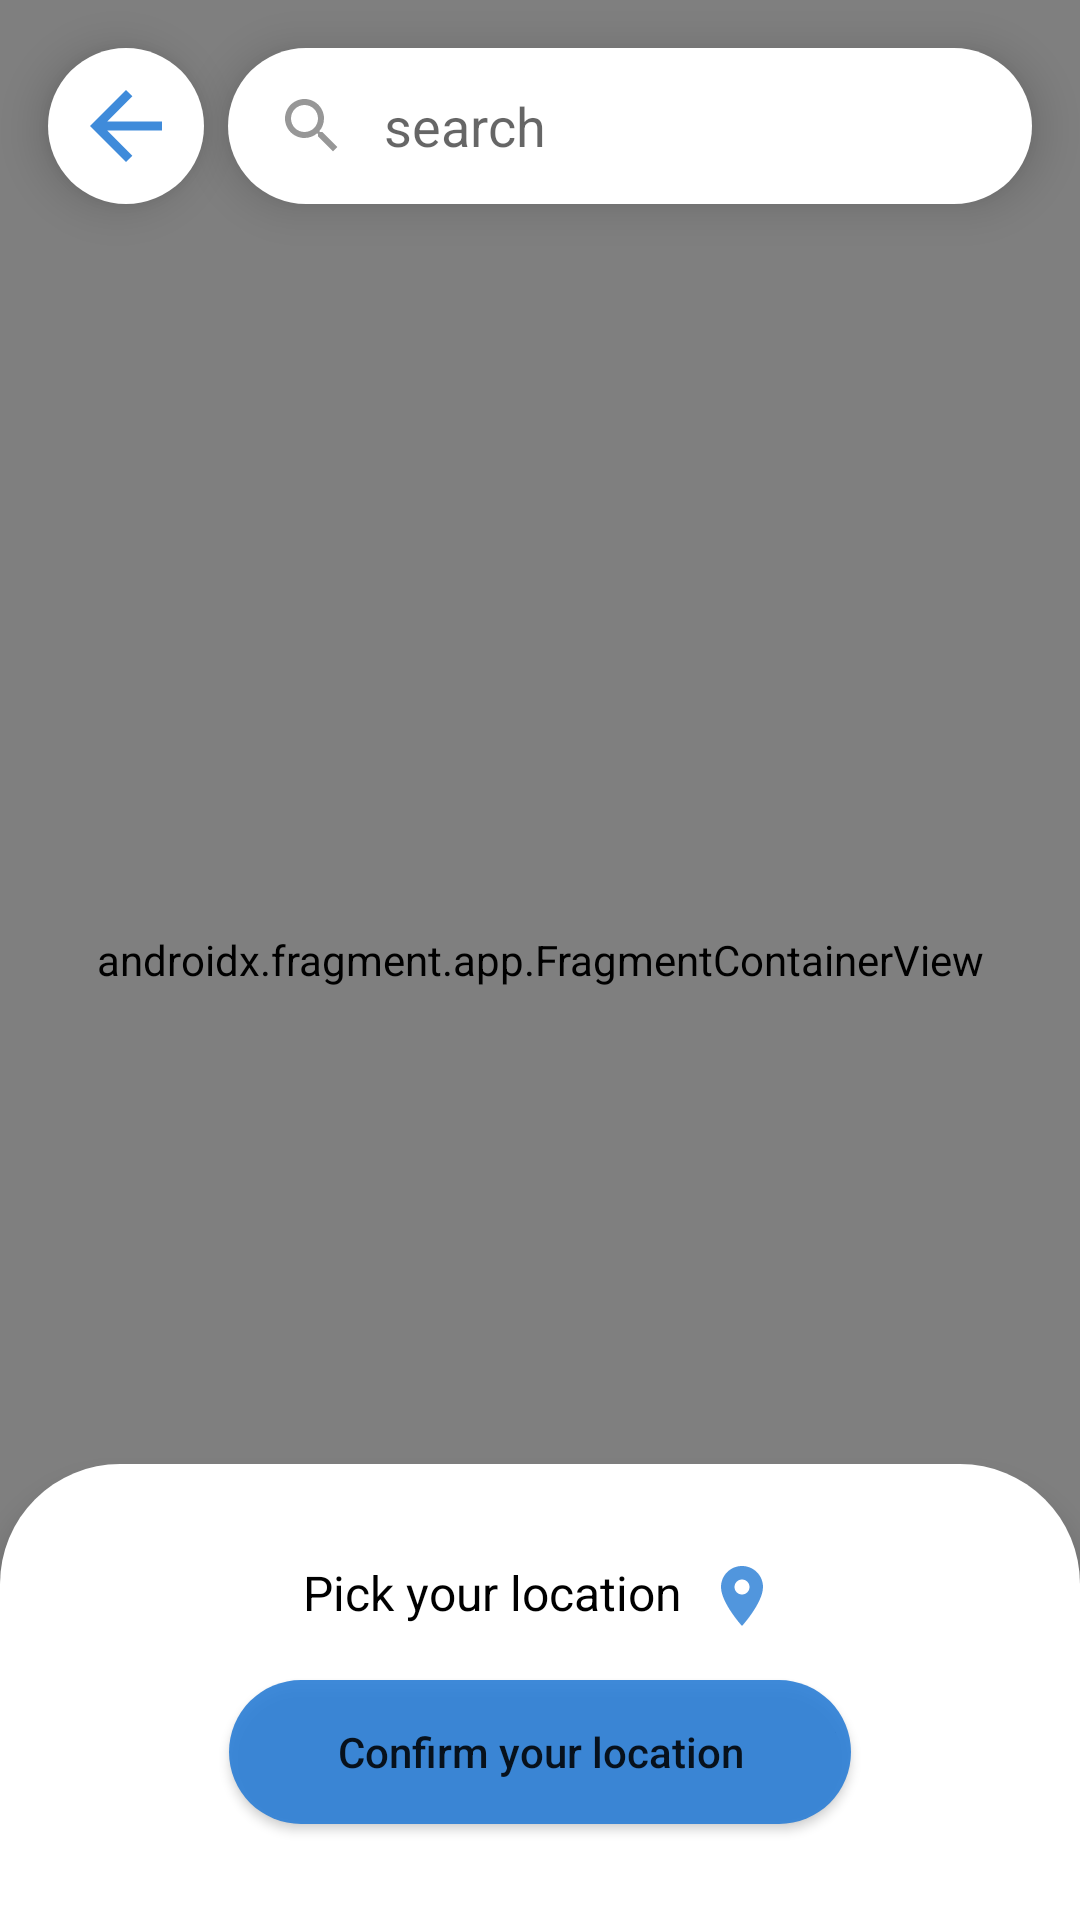

Icons on this 1080*1920 Android screen, each with the point to tap as point (x, y):
arrow back: point (126, 126)
